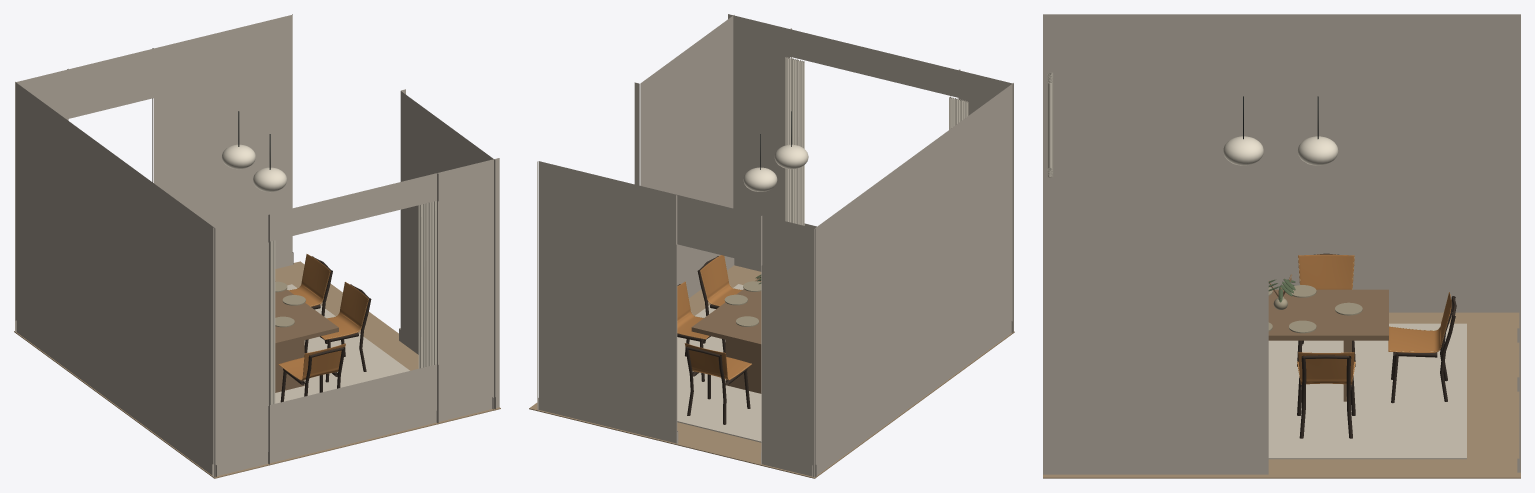
File: dining-3.glb
3 views of the same model, side by side, from view 1: azimuth 30°, elevation 25°; view 2: azimuth 150°, elevation 25°; view 3: azimuth 270°, elevation 25° (orthographic). The views are drawn at different scales.
Visible parts, largest first — view 1: DESIGN | dining removable wall finish, DESIGN | dining floor finish, DESIGN | Dining ground, DESIGN | Dining linen edge.001, DESIGN | Dining table top, DESIGN | Required Isadora dining chair 3, DESIGN | Required Isadora dining chair 5, DESIGN | Required Isadora dining chair 4, DESIGN | Dining linen edge, DESIGN | Dining table trestle, DESIGN | Dining light 2 shade, DESIGN | Dining light 1 shade; view 2: DESIGN | dining removable wall finish, DESIGN | Dining ground, DESIGN | dining floor finish, DESIGN | Dining linen edge.001, DESIGN | Dining table top, DESIGN | Required Isadora dining chair 6, DESIGN | Required Isadora dining chair 3, DESIGN | Dining table trestle.001, DESIGN | Required Isadora dining chair 4, DESIGN | Dining light 1 shade, DESIGN | Dining light 2 shade; view 3: DESIGN | dining removable wall finish, DESIGN | Dining ground, DESIGN | dining floor finish, DESIGN | Dining table top, DESIGN | Required Isadora dining chair 6, DESIGN | Required Isadora dining chair 4, DESIGN | Required Isadora dining chair 2, DESIGN | Dining light 2 shade, DESIGN | Dining light 1 shade, DESIGN | Dining linen edge.
Part boxes in pixels (x1,y1,x2,y2): DESIGN | dining removable wall finish: (15, 14, 499, 477); DESIGN | dining floor finish: (14, 261, 500, 478); DESIGN | Dining ground: (275, 284, 409, 403); DESIGN | Dining linen edge.001: (418, 201, 436, 368); DESIGN | Dining table top: (275, 281, 338, 347); DESIGN | Required Isadora dining chair 3: (304, 282, 371, 382); DESIGN | Required Isadora dining chair 5: (278, 343, 345, 402); DESIGN | Required Isadora dining chair 4: (288, 254, 332, 343); DESIGN | Dining linen edge: (268, 240, 275, 405); DESIGN | Dining table trestle: (275, 340, 304, 392); DESIGN | Dining light 2 shade: (222, 144, 255, 169); DESIGN | Dining light 1 shade: (253, 167, 287, 192); DESIGN | dining removable wall finish: (537, 14, 1013, 477); DESIGN | Dining ground: (677, 284, 761, 442); DESIGN | dining floor finish: (529, 265, 1014, 478); DESIGN | Dining linen edge.001: (785, 57, 804, 225); DESIGN | Dining table top: (691, 276, 761, 348); DESIGN | Required Isadora dining chair 6: (684, 343, 751, 424); DESIGN | Required Isadora dining chair 3: (697, 255, 741, 343); DESIGN | Dining table trestle.001: (725, 340, 761, 393); DESIGN | Required Isadora dining chair 4: (677, 281, 725, 381); DESIGN | Dining light 1 shade: (774, 144, 808, 169); DESIGN | Dining light 2 shade: (743, 167, 777, 191); DESIGN | dining removable wall finish: (1043, 14, 1520, 474); DESIGN | Dining ground: (1268, 323, 1466, 459); DESIGN | dining floor finish: (1043, 312, 1520, 478); DESIGN | Dining table top: (1268, 289, 1388, 340); DESIGN | Required Isadora dining chair 6: (1388, 292, 1456, 403); DESIGN | Required Isadora dining chair 4: (1297, 352, 1355, 438); DESIGN | Required Isadora dining chair 2: (1297, 253, 1355, 366); DESIGN | Dining light 2 shade: (1297, 136, 1338, 165); DESIGN | Dining light 1 shade: (1223, 136, 1263, 165); DESIGN | Dining linen edge: (1047, 72, 1053, 170).
Size of the model in its own units: 3.28 by 2.74 by 3.98.
